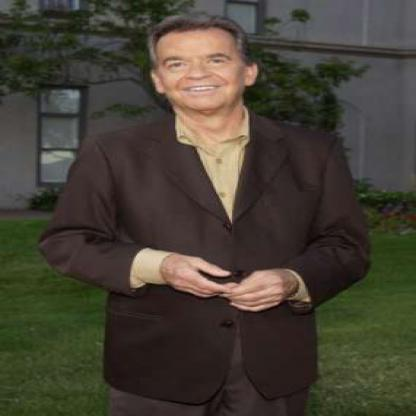face: (155, 15, 248, 113)
